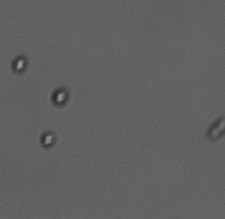Living Cell: (51, 88, 69, 106), (38, 131, 57, 147), (12, 56, 28, 73)
